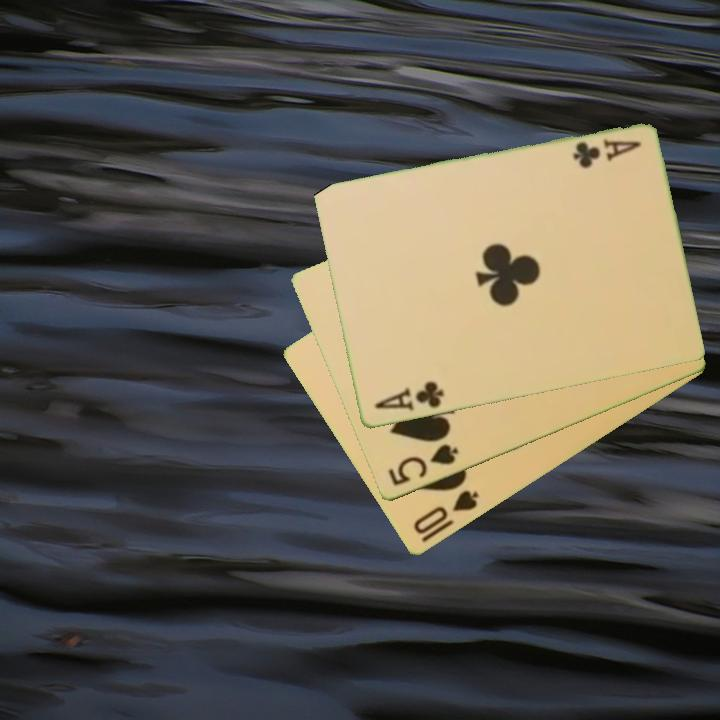10s: (409, 487, 482, 538)
5s: (384, 440, 461, 490)
Ac: (370, 378, 447, 414), (568, 136, 644, 171)
